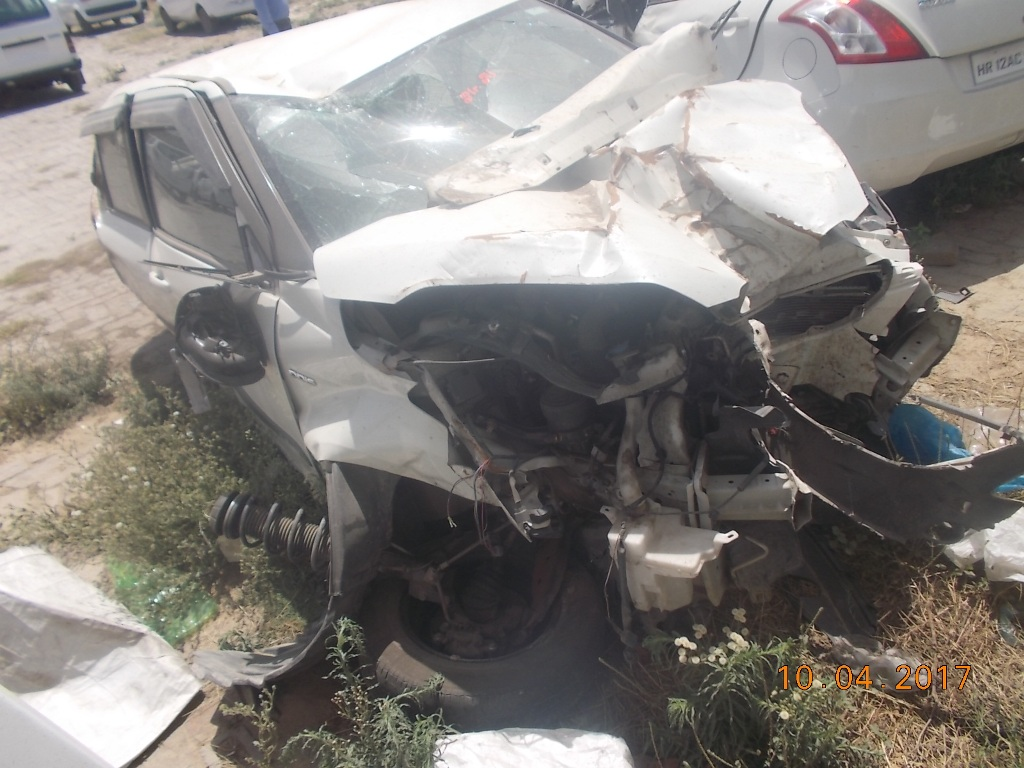Large_tear_or_damage: (306, 102, 932, 613)
